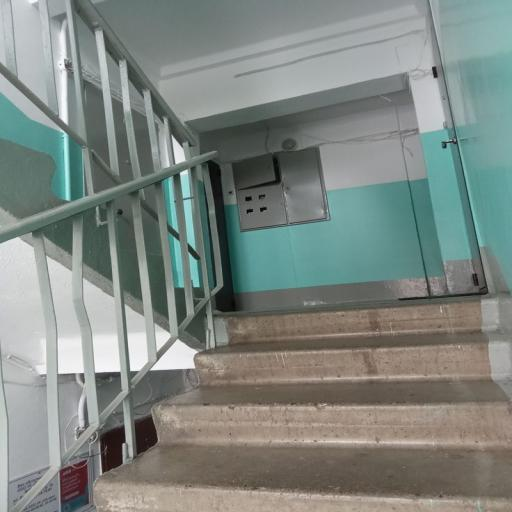laptop: (93, 297, 512, 512)
